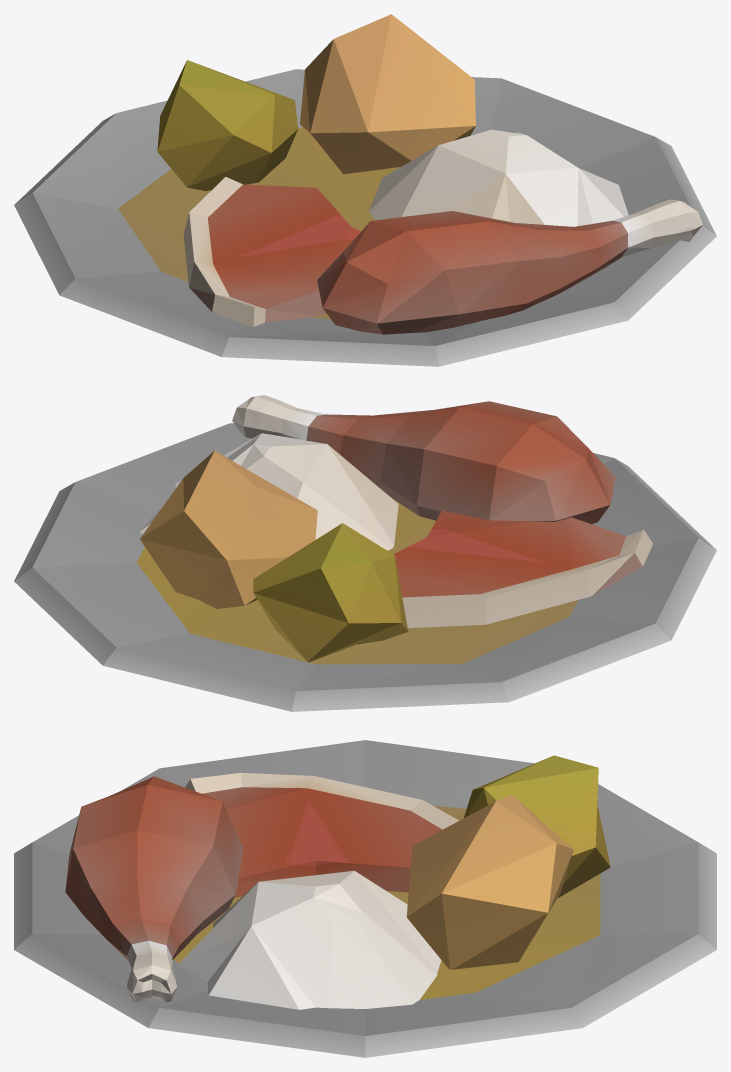
File: platemeal.glb
3 views of the same model, one above another, from view 1: azimuth 30°, elevation 25°; view 2: azimuth 150°, elevation 25°; view 3: azimuth 270°, elevation 25° (orthographic). The views are drawn at different scales.
Parts seen in each view (by area): view 1: PlateMeal_mesh1; view 2: PlateMeal_mesh1; view 3: PlateMeal_mesh1.
Part boxes in pixels (x1,y1,x2,y2): PlateMeal_mesh1: [14, 14, 716, 366]; PlateMeal_mesh1: [14, 395, 716, 711]; PlateMeal_mesh1: [14, 740, 716, 1057].
Bounding box in the file's own units: 0.4204 × 0.1158 × 0.3998.
1 material, 1 textured.
